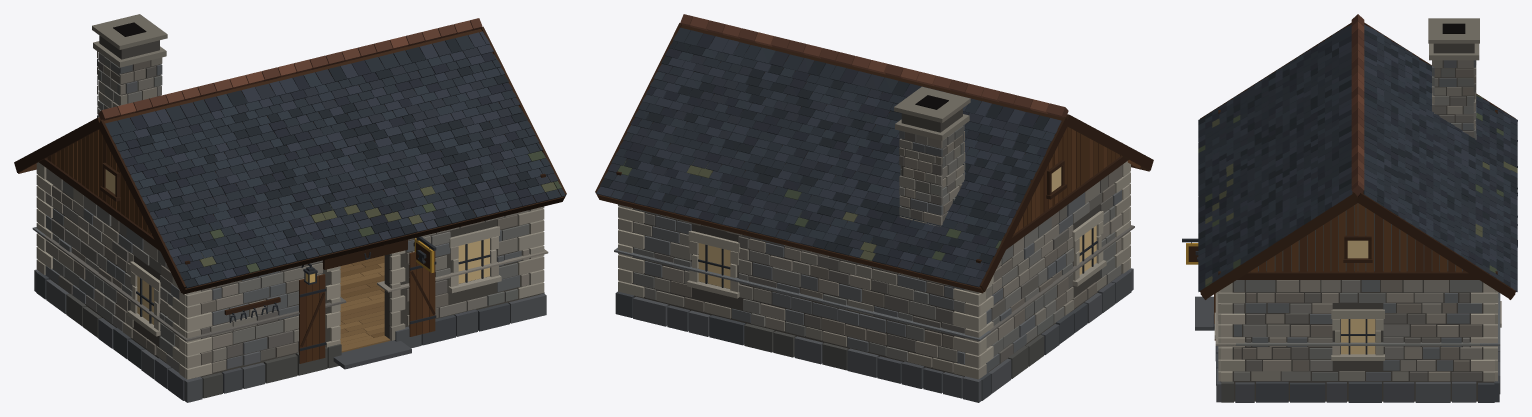
Rendered from smith.glb.
3 renders of one model, left to right at view 1: azimuth 30°, elevation 25°; view 2: azimuth 150°, elevation 25°; view 3: azimuth 270°, elevation 25°, orthographic. The views are drawn at different scales.
Parts seen in each view (by area): view 1: smith_shell, smith_interior, smith_cap, smith_glass; view 2: smith_shell, smith_cap, smith_glass; view 3: smith_shell, smith_glass, smith_cap.
Boxes of the visible parts, <box> form: smith_shell: <box>14,14,566,402</box>; smith_interior: <box>339,255,390,352</box>; smith_cap: <box>32,227,548,341</box>; smith_glass: <box>105,169,489,324</box>; smith_shell: <box>595,14,1153,402</box>; smith_cap: <box>614,225,1134,340</box>; smith_glass: <box>698,167,1096,288</box>; smith_shell: <box>1182,14,1517,402</box>; smith_glass: <box>1341,240,1375,354</box>; smith_cap: <box>1215,292,1500,345</box>.
Bounding box in the file's own units: 11.94 × 7.84 × 9.78.
